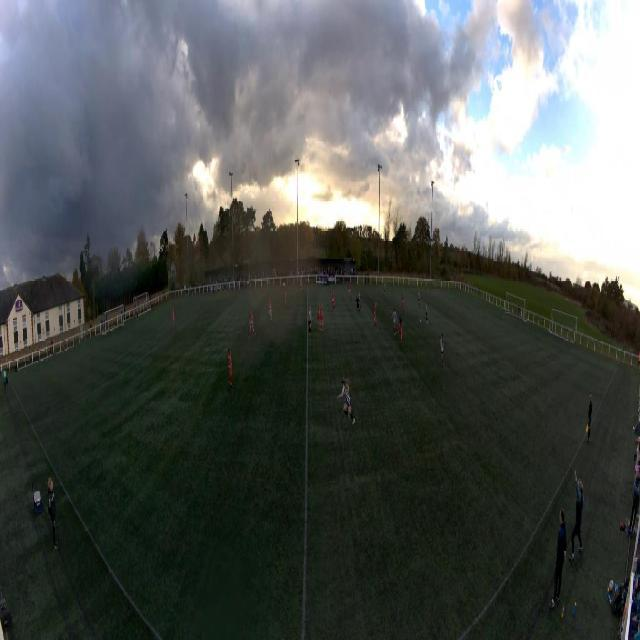ball: (420, 319, 421, 323)
player: (337, 378, 353, 420), (249, 311, 256, 340), (228, 348, 233, 387), (391, 308, 397, 336), (319, 304, 324, 334), (308, 307, 313, 336), (397, 317, 402, 346), (440, 333, 444, 367), (317, 302, 321, 332), (355, 295, 360, 314), (424, 302, 428, 324), (358, 291, 362, 311), (269, 307, 273, 327), (374, 302, 377, 328), (332, 291, 335, 311), (299, 279, 303, 294), (401, 294, 404, 313), (285, 289, 288, 308), (268, 297, 272, 311), (499, 301, 502, 319), (348, 283, 351, 300), (383, 284, 386, 299), (173, 309, 175, 329), (418, 289, 420, 308)
